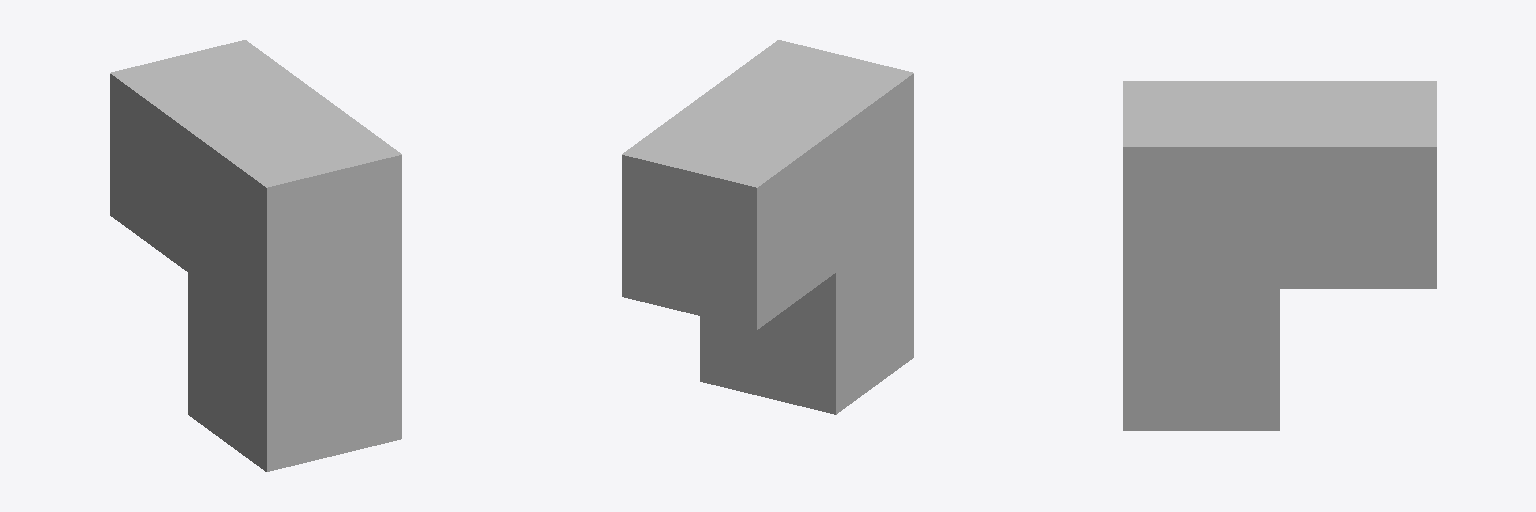
File: Bar04.obj
3 views of the same model, side by side, from view 1: azimuth 30°, elevation 25°; view 2: azimuth 150°, elevation 25°; view 3: azimuth 270°, elevation 25° (orthographic).
Visible parts, largest first — view 1: Bar04; view 2: Bar04; view 3: Bar04.
Boxes of the visible parts, box(x1,y1,x2,y2) form: Bar04: box(110, 40, 401, 471); Bar04: box(622, 40, 913, 414); Bar04: box(1123, 81, 1436, 430).
Bounding box in the file's own units: 0.6667 × 1.33 × 1.33.